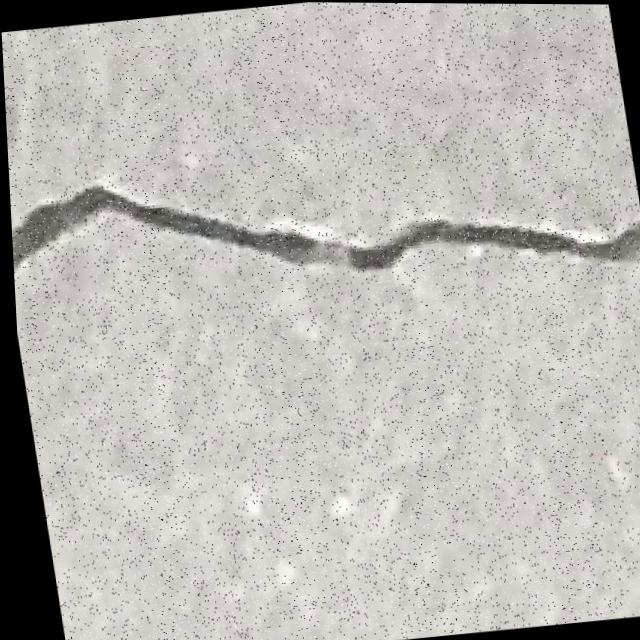Crack: (4, 93, 640, 352)
